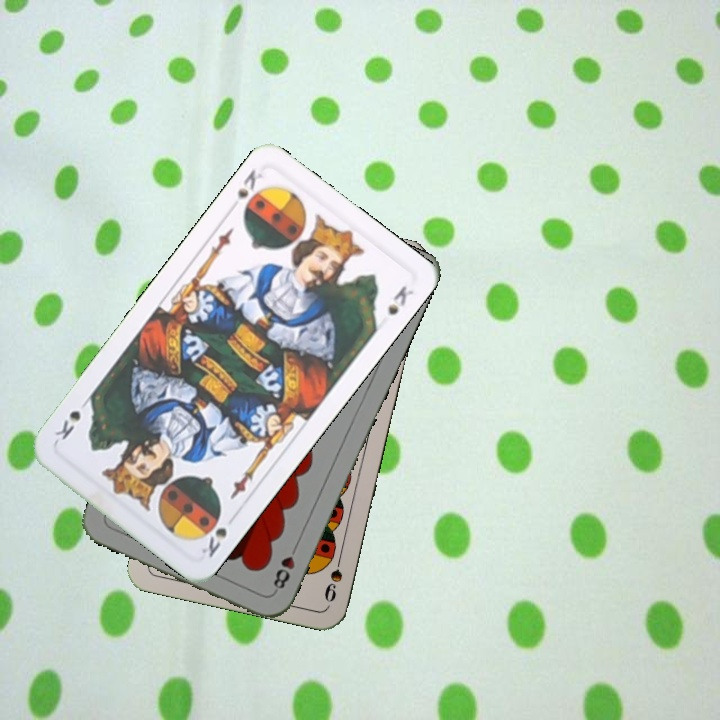H8: (269, 539, 301, 595)
S9: (320, 547, 346, 605)
SK: (227, 164, 268, 219), (197, 523, 230, 561)
